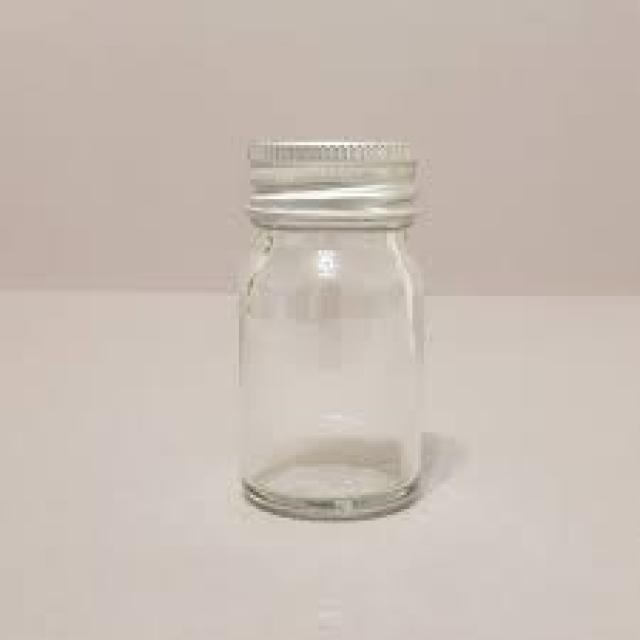Glass: (188, 81, 450, 561)
